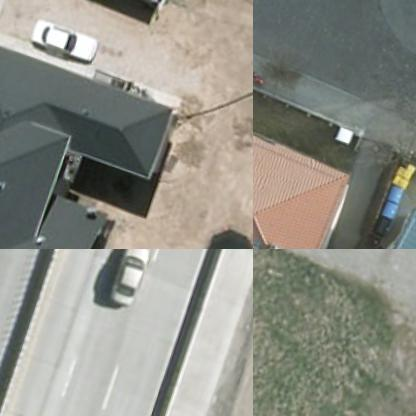car: (32, 17, 104, 63), (107, 249, 156, 309)
